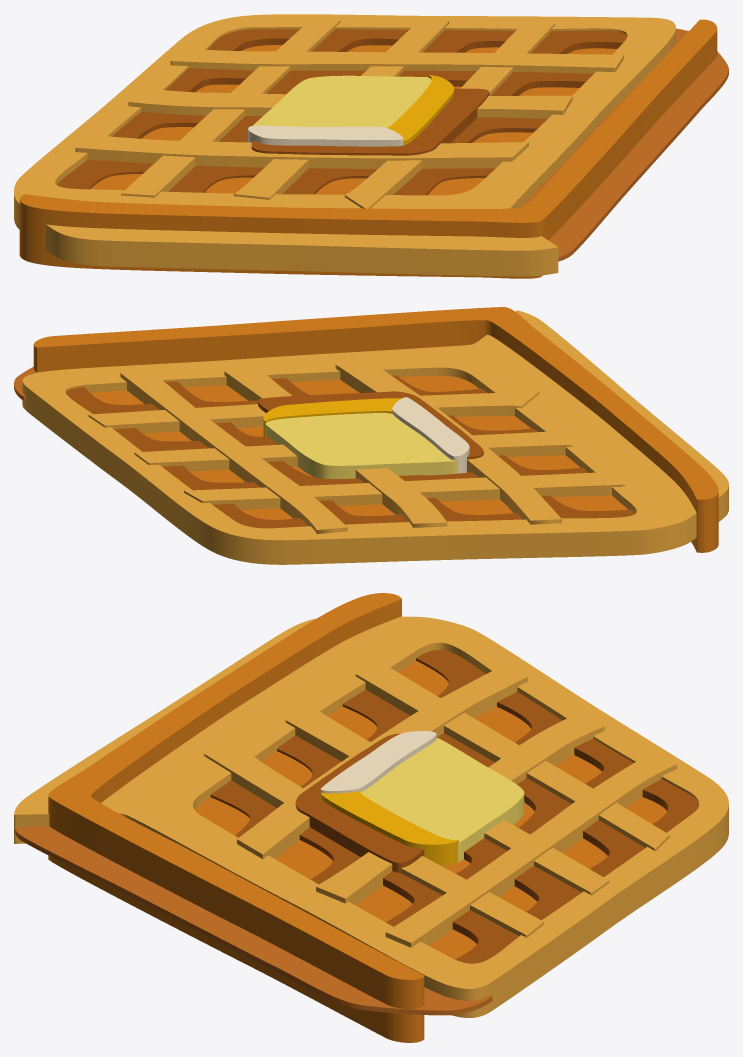
Rendered from emoji_u1f9c7.glb.
3 renders of one model, top to bottom at view 1: azimuth 30°, elevation 25°; view 2: azimuth 150°, elevation 25°; view 3: azimuth 270°, elevation 25°, orthographic. The views are drawn at different scales.
Parts seen in each view (by area): view 1: emoji_u1f9c7; view 2: emoji_u1f9c7; view 3: emoji_u1f9c7.
Boxes of the visible parts, left/top/right/bottom form: emoji_u1f9c7: left=14, top=14, right=728, bottom=278; emoji_u1f9c7: left=14, top=307, right=728, bottom=564; emoji_u1f9c7: left=14, top=593, right=728, bottom=1042.
Bounding box in the file's own units: 0.0344 × 0.0026 × 0.0267.
